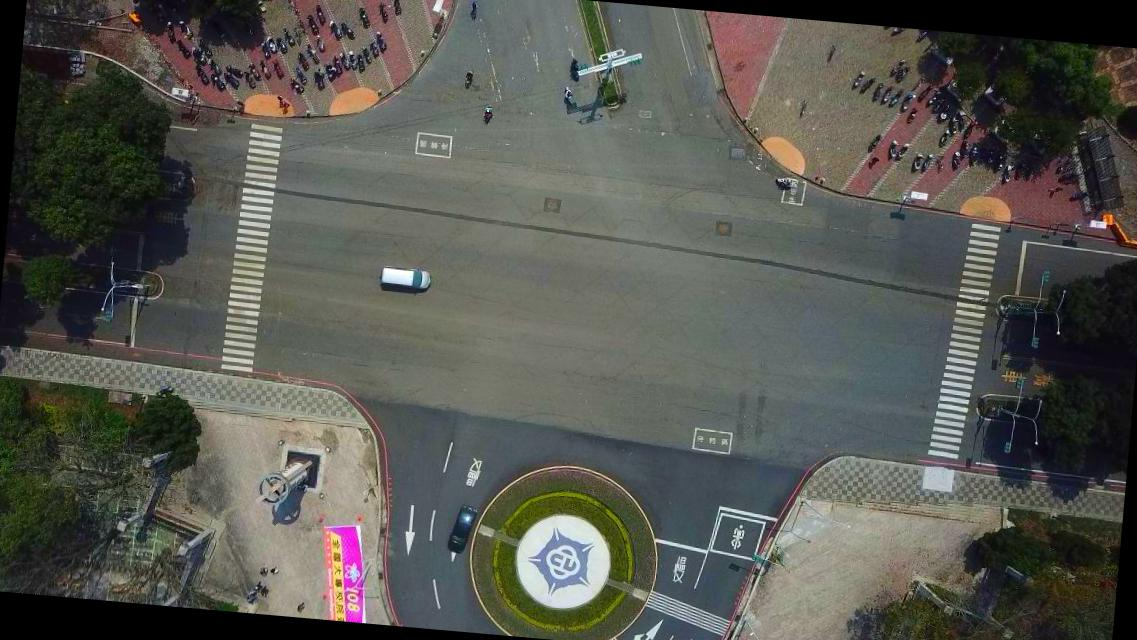vehicle: (446, 506, 477, 556), (379, 264, 433, 292)
